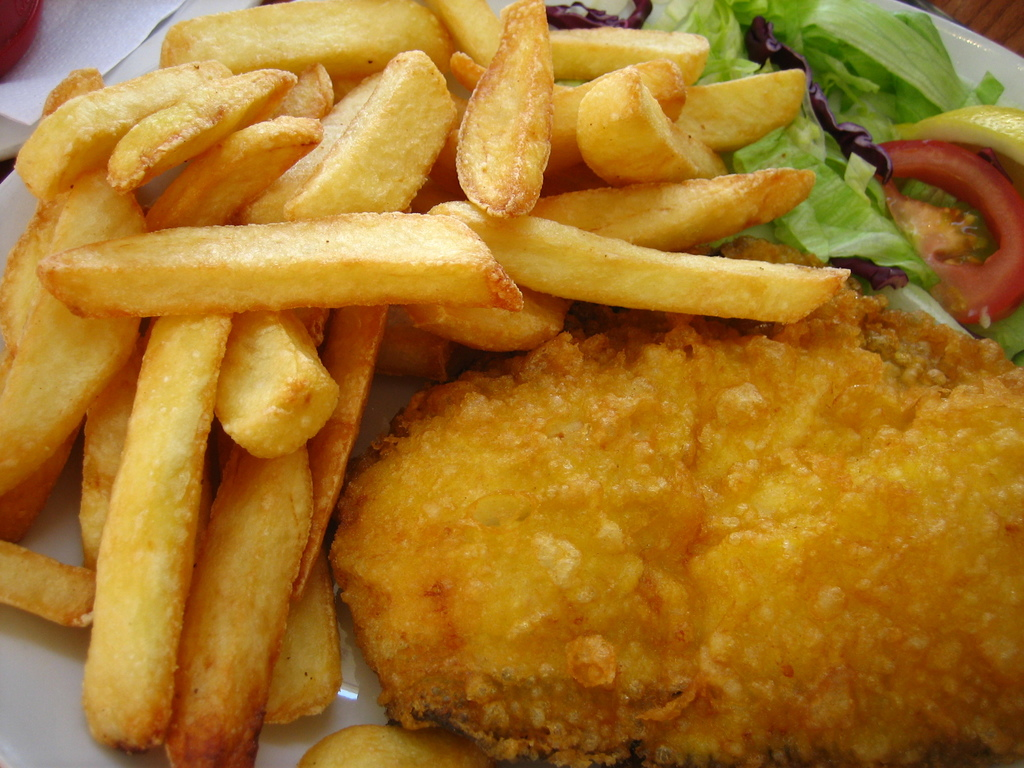French fries: (38, 31, 852, 684)
